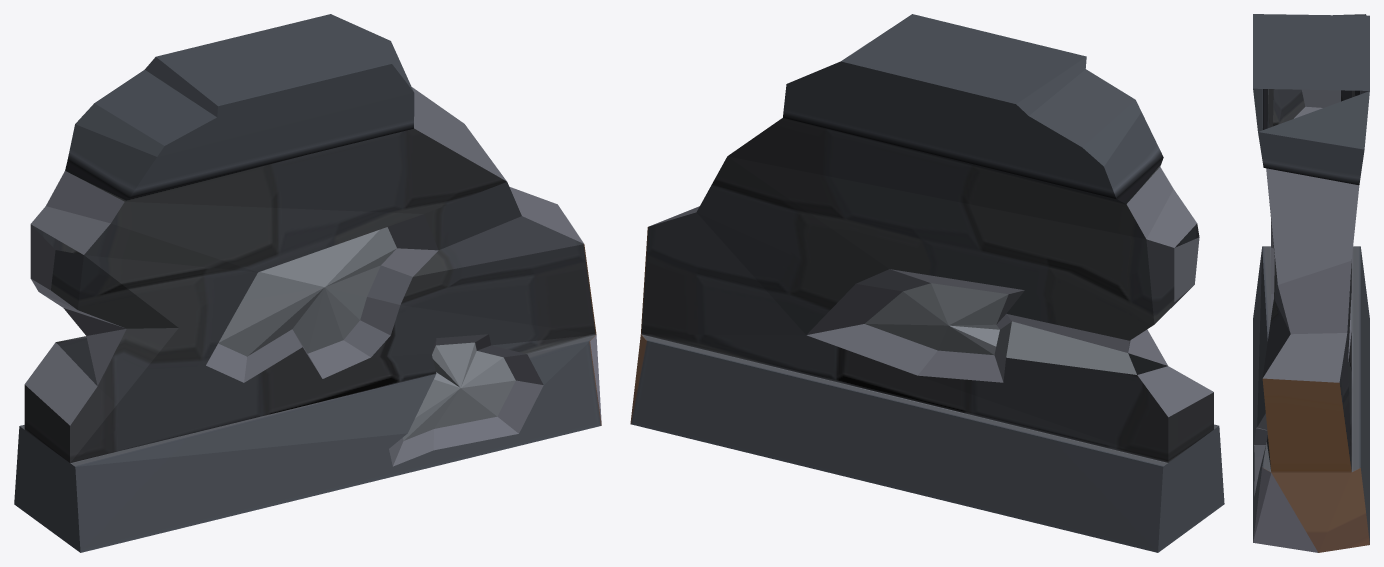
The model's file is Broken_Wall_01.FBX.
The picture shows the model from 3 angles, left to right: view 1: azimuth 30°, elevation 25°; view 2: azimuth 150°, elevation 25°; view 3: azimuth 270°, elevation 25°; orthographic projection. The views are drawn at different scales.
Visible parts, largest first — view 1: Broken_Wall_01; view 2: Broken_Wall_01; view 3: Broken_Wall_01.
Part boxes in pixels (x1,y1,x2,y2): Broken_Wall_01: [14, 14, 601, 552]; Broken_Wall_01: [630, 14, 1224, 552]; Broken_Wall_01: [1253, 14, 1369, 552].
Size of the model in its own units: 104 by 75 by 21.84.
